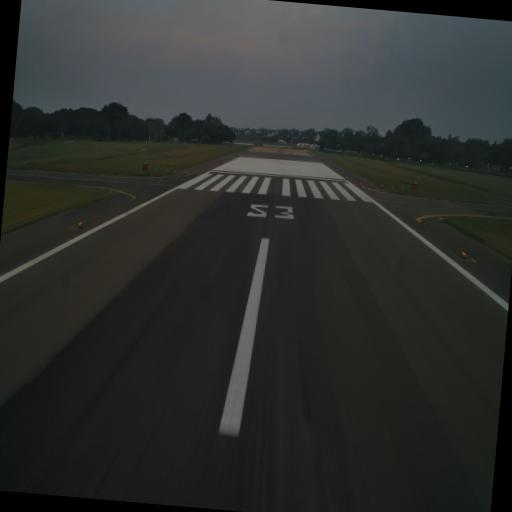on: (460, 248, 470, 260), (77, 218, 84, 230)
